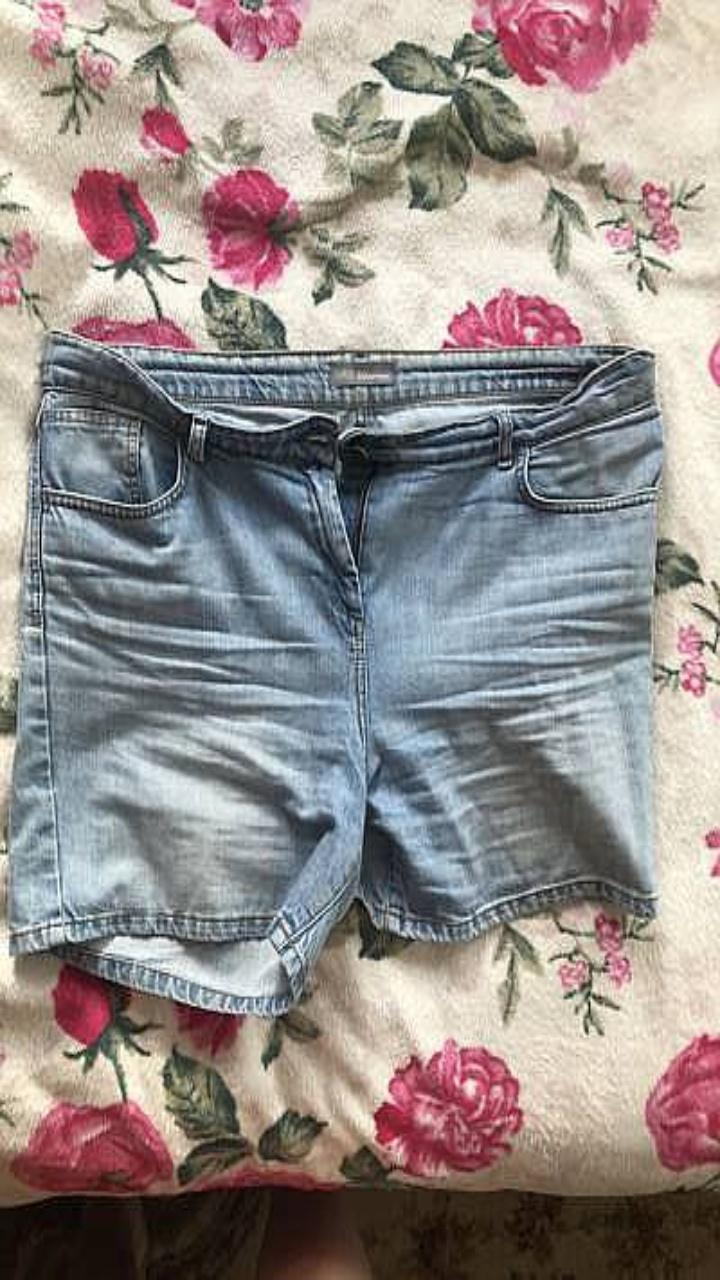Shorts: (8, 330, 662, 1016)
